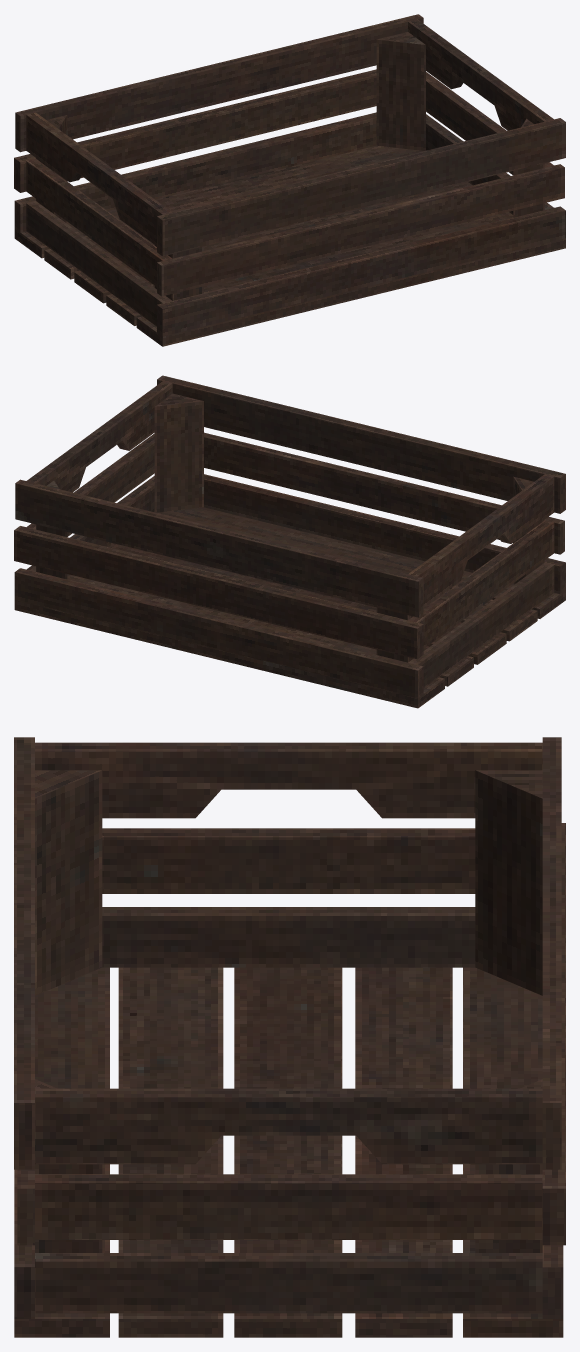
Rendered from supply_crate_1_2_empty.glb.
3 views of the same model, one above another, from view 1: azimuth 30°, elevation 25°; view 2: azimuth 150°, elevation 25°; view 3: azimuth 270°, elevation 25° (orthographic). The views are drawn at different scales.
Visible parts, largest first — view 1: supply_crate_1_2_empty; view 2: supply_crate_1_2_empty; view 3: supply_crate_1_2_empty.
Boxes of the visible parts, <box> form: supply_crate_1_2_empty: <box>14,14,565,346</box>; supply_crate_1_2_empty: <box>14,375,565,708</box>; supply_crate_1_2_empty: <box>14,737,565,1337</box>.
Size of the model in its own units: 0.668 by 0.2 by 0.4262.
Materials: 1 (1 with a texture image).
